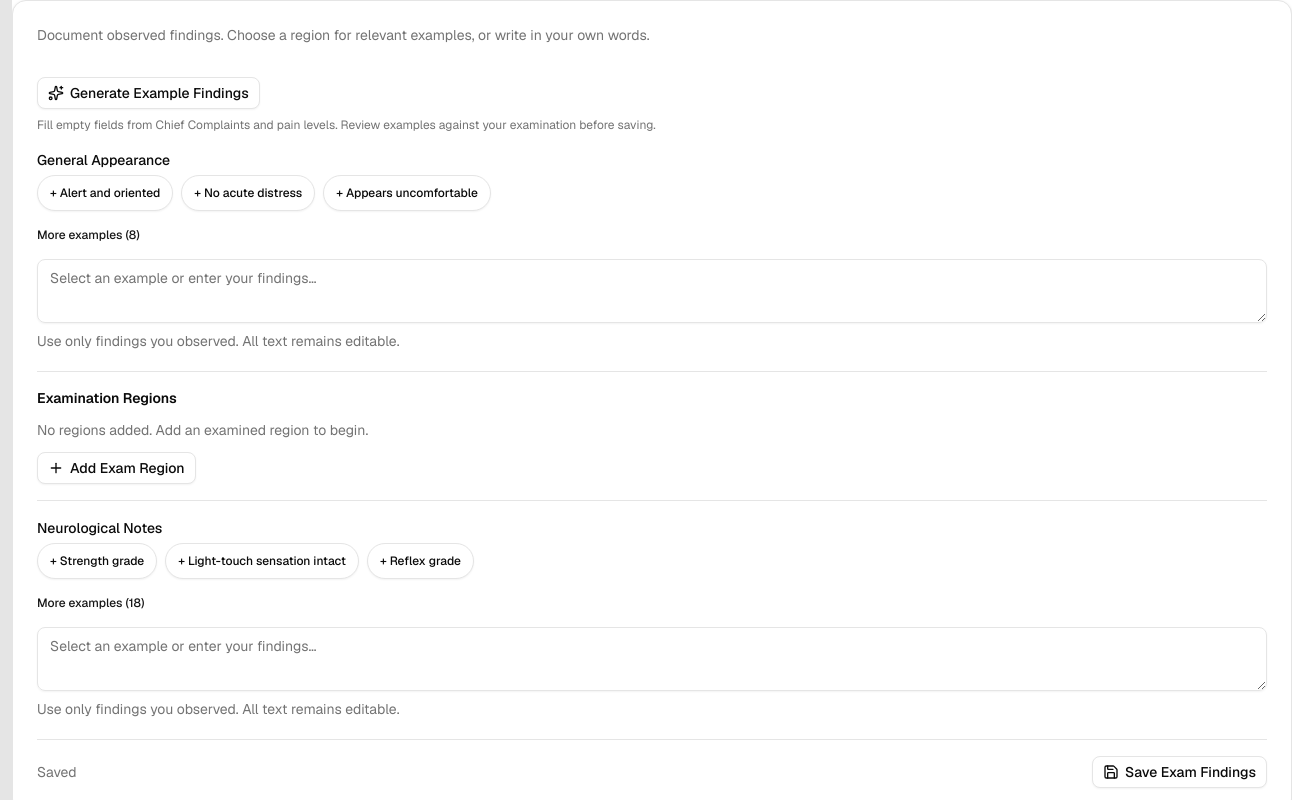
Scenario: ExamFindingsCard › rejects invalid pain ranges (8, 3) before applying any text
Click the button "Generate Example Findings": x=148, y=93 [37,77,260,109]
(page scrolled)
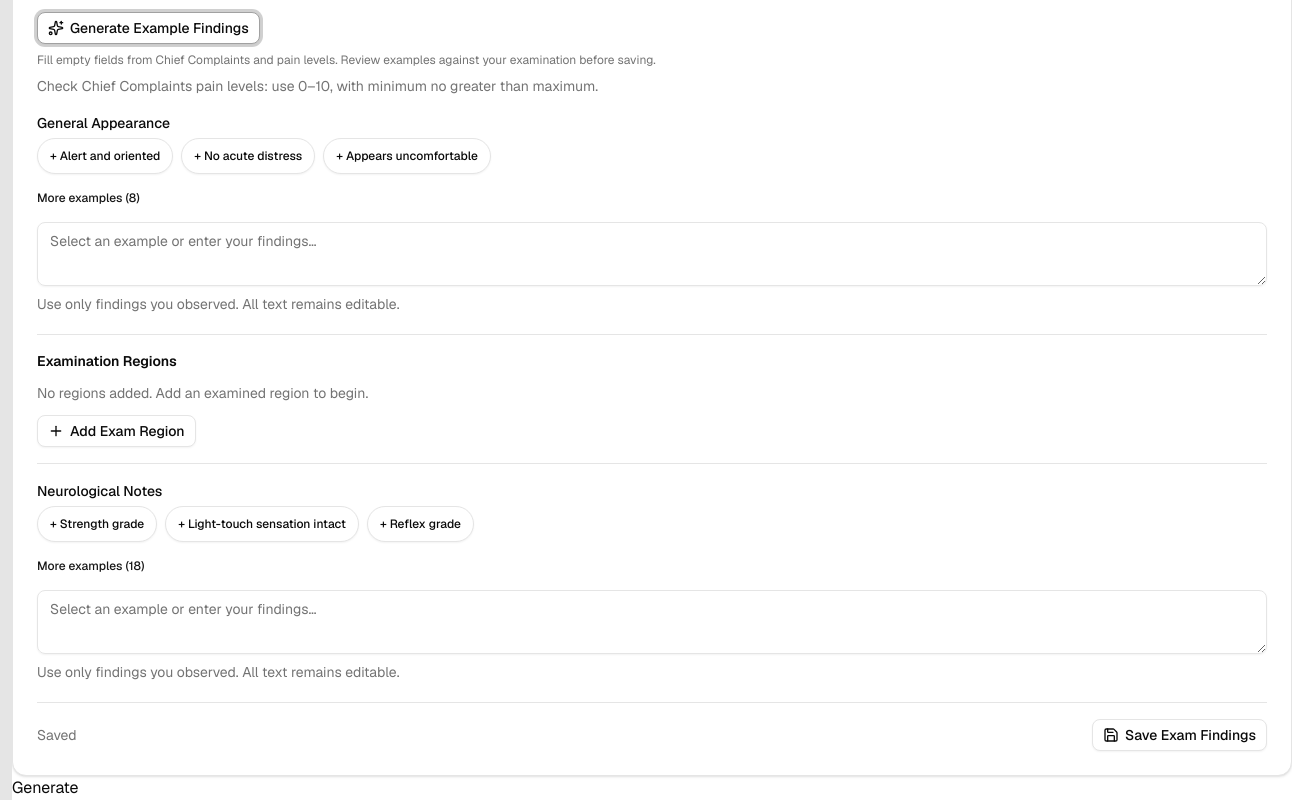
Expected: the text box labelled "General Appearance" is empty, [37,222,1267,286]
Now the text "Check Chief Complaints pain levels" is shown, box [37,77,598,95]
